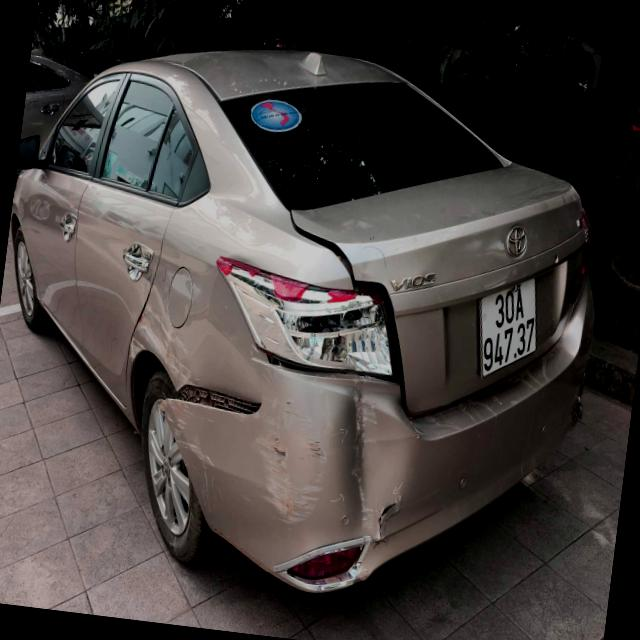Dechirure: (160, 379, 283, 449), (374, 486, 402, 558)
Phare abime: (199, 256, 409, 389)
Rayure: (412, 331, 573, 470), (150, 398, 255, 532), (244, 395, 332, 528), (330, 390, 398, 541)
